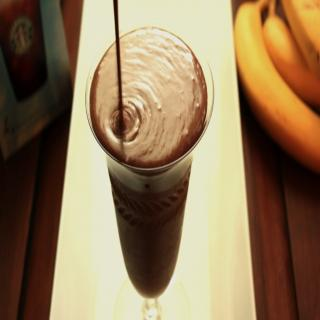Banana: (260, 0, 320, 105), (280, 0, 320, 78)
